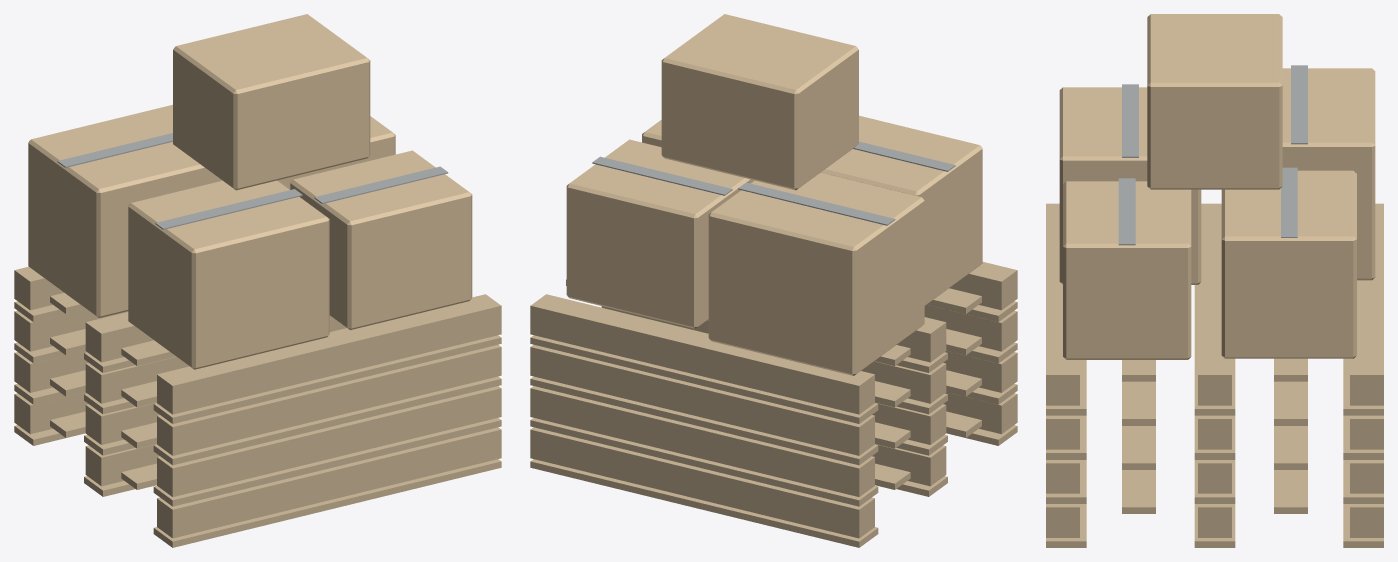
The model's file is pallet_stack.glb.
The picture shows the model from 3 angles, left to right: view 1: azimuth 30°, elevation 25°; view 2: azimuth 150°, elevation 25°; view 3: azimuth 270°, elevation 25°; orthographic projection. The views are drawn at different scales.
Parts seen in each view (by area): view 1: body; view 2: body; view 3: body.
Part boxes in pixels (bbox=[...]): body: bbox=[14, 14, 501, 547]; body: bbox=[530, 14, 1017, 547]; body: bbox=[1046, 14, 1383, 547].
Size of the model in its own units: 1.2 by 1.38 by 1.
